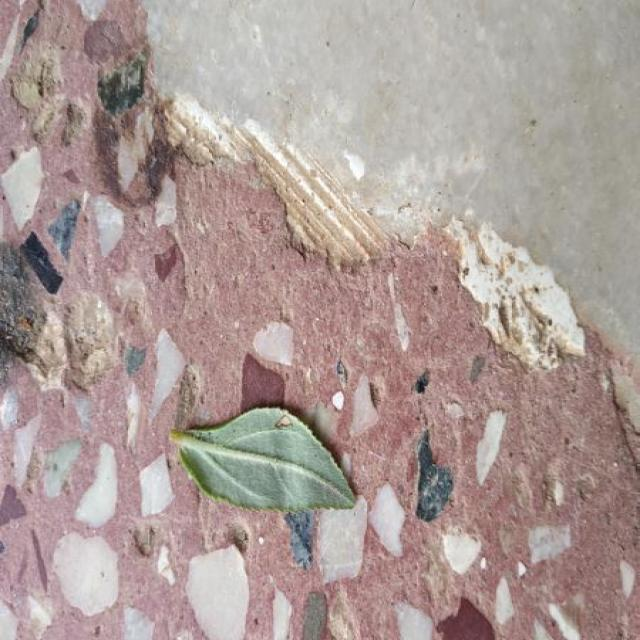defectetedAstma_weed: (170, 408, 355, 512)
